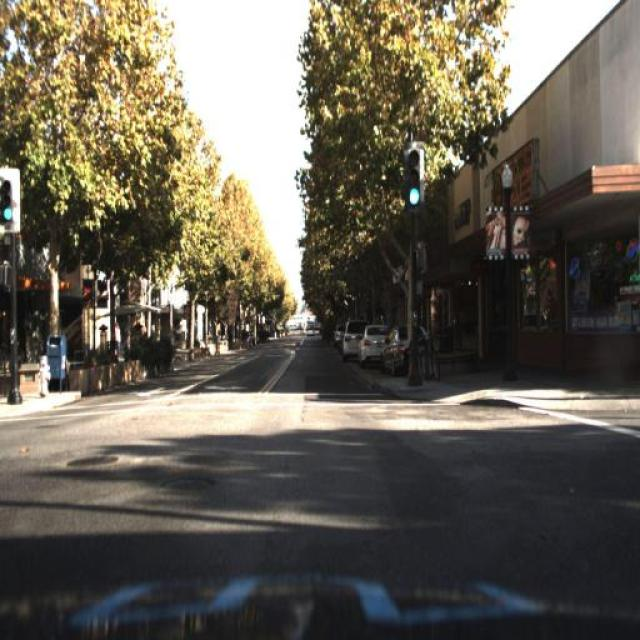car: (383, 323, 425, 372), (355, 321, 385, 371), (342, 308, 368, 359), (357, 323, 381, 367), (340, 311, 356, 360)
trafficLight: (622, 284, 639, 384), (399, 318, 418, 383)
trafficLight-Green: (406, 150, 424, 210)
